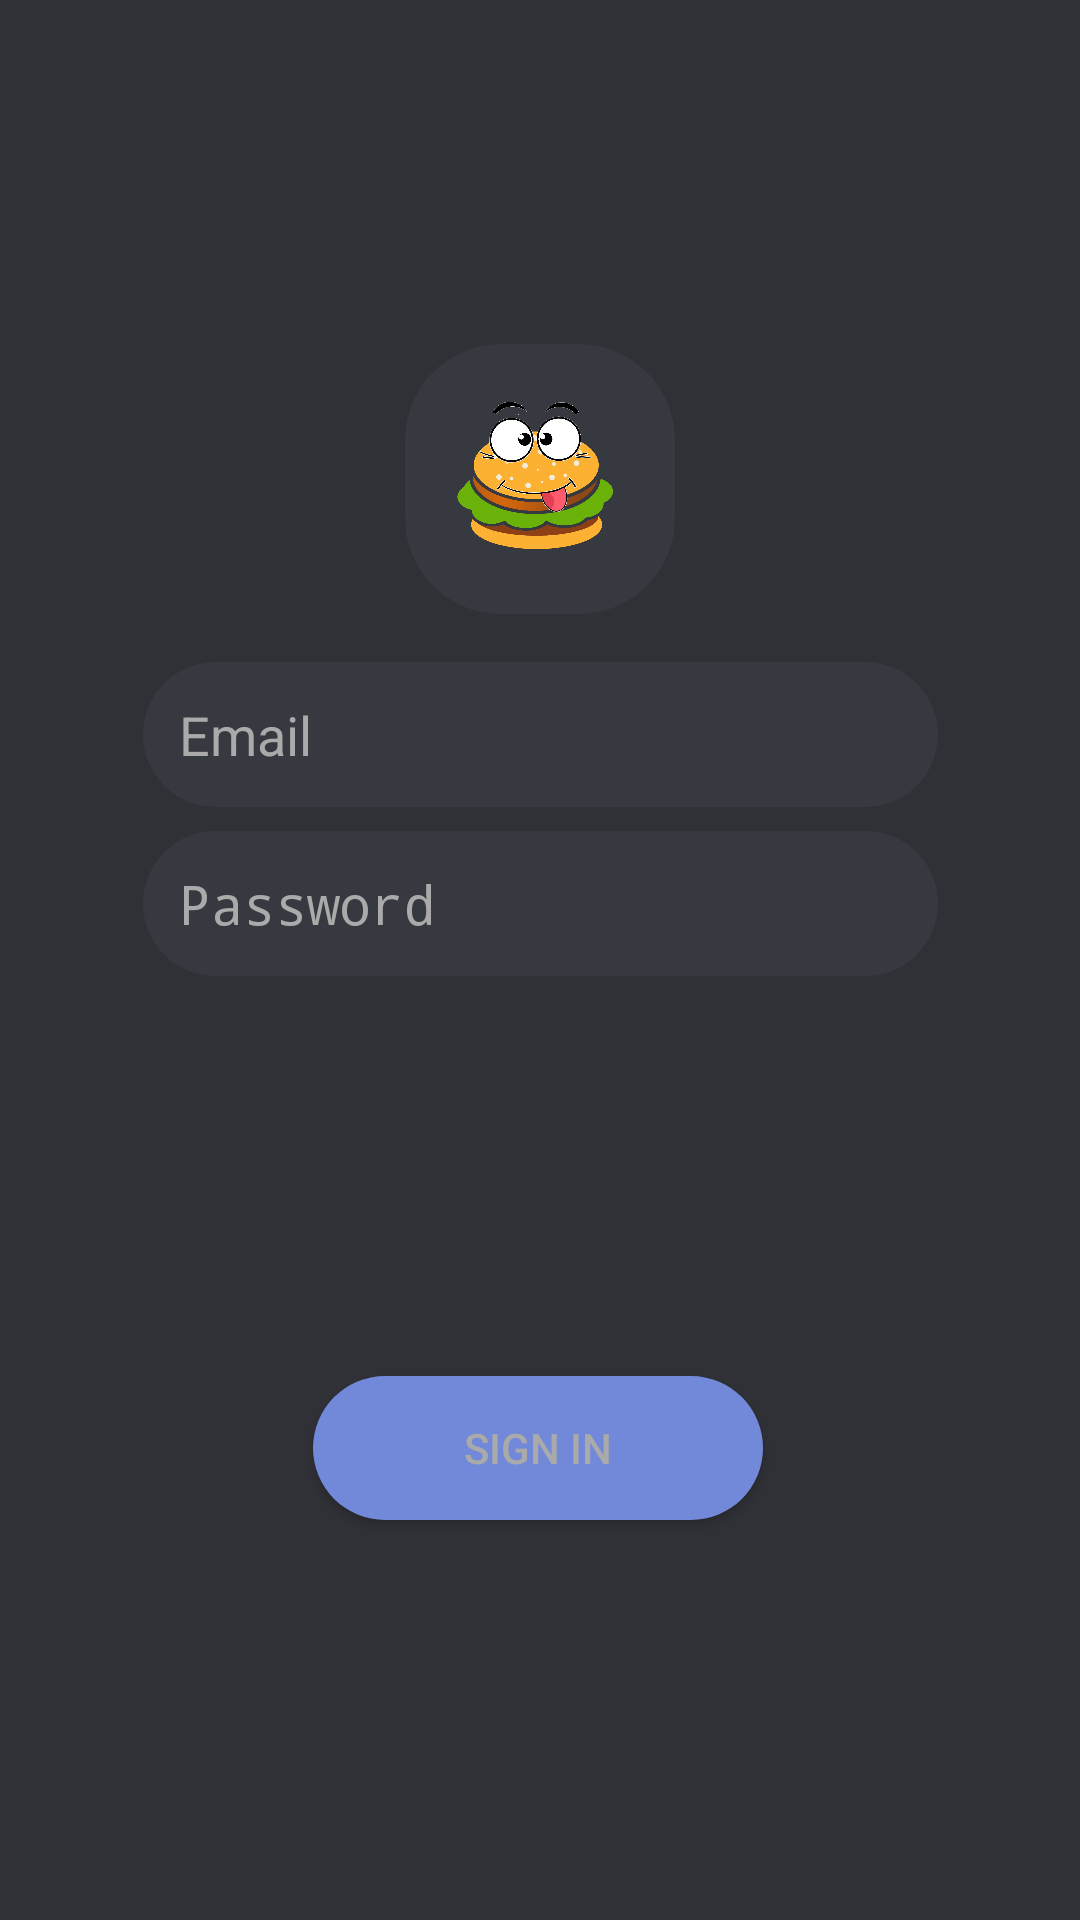

Locate icon controls on the screen. Image size 1080 × 1920, boxes as (x1, y1, x2, y2).
burgerz: (457, 402, 613, 549)
